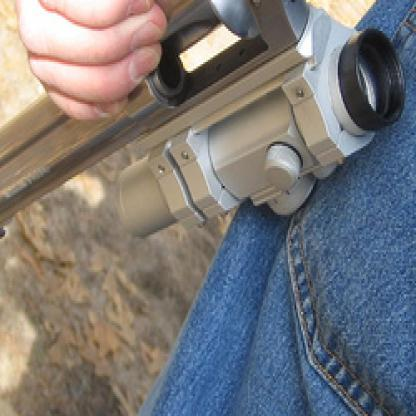gun: (0, 0, 415, 271)
